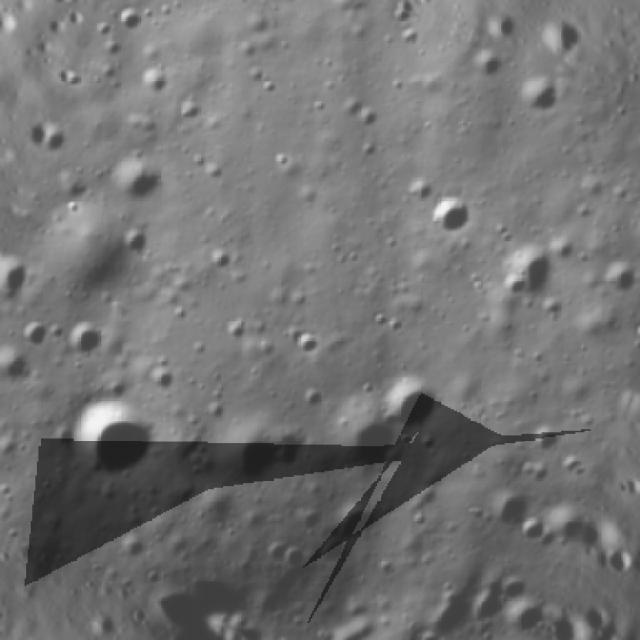crater: (53, 374, 175, 501), (202, 406, 308, 506), (316, 401, 412, 492), (482, 232, 569, 321), (410, 175, 492, 253), (381, 365, 459, 446), (502, 61, 581, 138), (101, 146, 173, 214), (483, 482, 548, 547), (587, 244, 640, 313), (60, 312, 106, 372), (0, 247, 37, 311), (0, 340, 34, 392), (0, 446, 12, 533), (94, 0, 141, 22)
